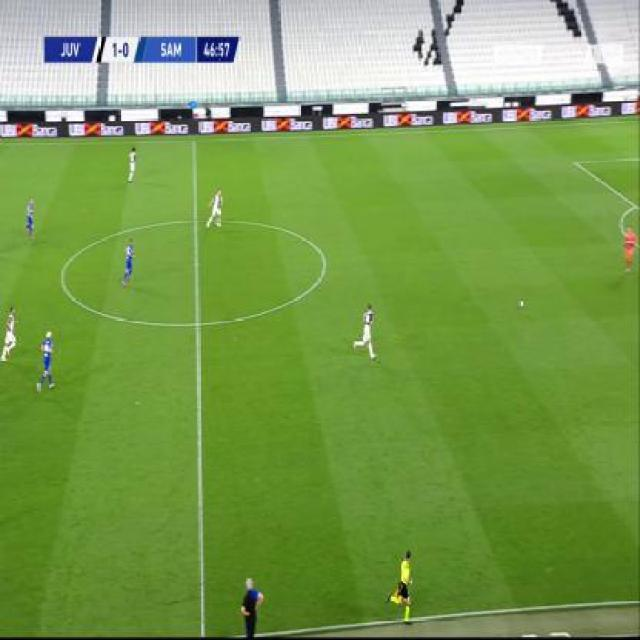ball: (517, 296, 525, 309)
player: (385, 546, 416, 622), (238, 574, 266, 639), (34, 329, 56, 395), (353, 300, 376, 360), (0, 303, 18, 363), (621, 221, 637, 277), (206, 187, 225, 232), (121, 237, 137, 288), (22, 195, 35, 241), (126, 144, 137, 183)
